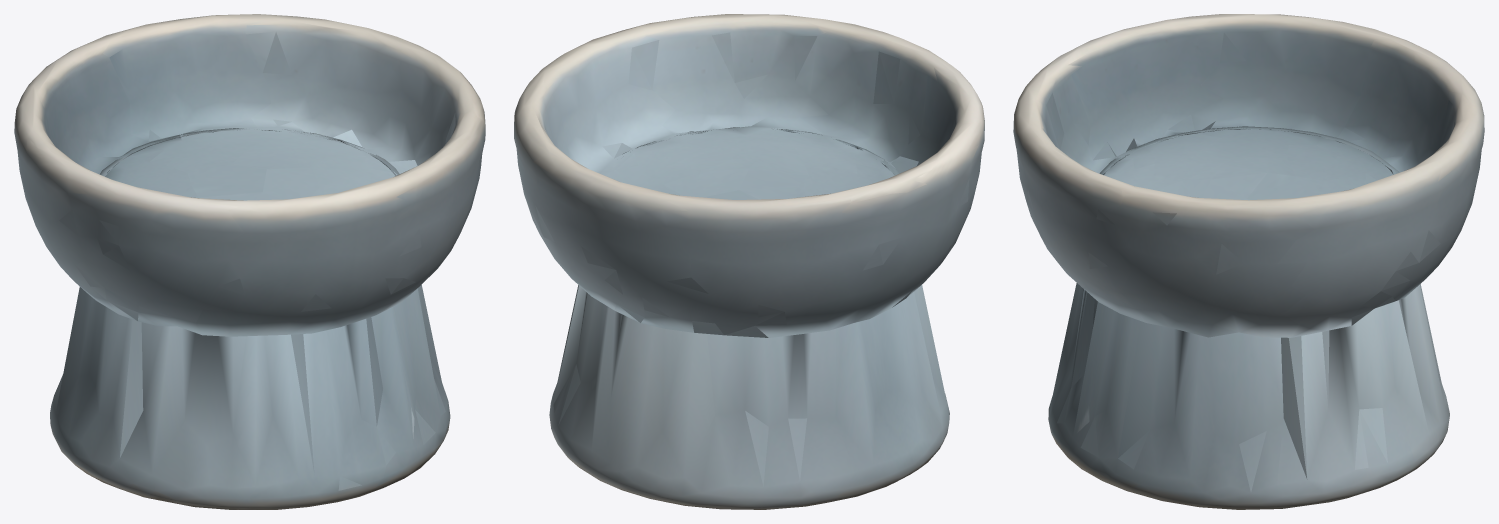
Rendered from bowl.glb.
3 views of the same model, side by side, from view 1: azimuth 30°, elevation 25°; view 2: azimuth 150°, elevation 25°; view 3: azimuth 270°, elevation 25° (orthographic).
Visible parts, largest first — view 1: tripo_node_3c835fdb; view 2: tripo_node_3c835fdb; view 3: tripo_node_3c835fdb.
Boxes of the visible parts, x1,y1,x2,y2 form: tripo_node_3c835fdb: (14, 14, 485, 509); tripo_node_3c835fdb: (514, 14, 984, 509); tripo_node_3c835fdb: (1013, 14, 1484, 509).
Bounding box in the file's own units: 0.5416 × 0.408 × 0.5418.
Materials: 1 (1 with a texture image).
